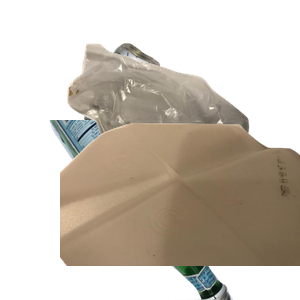glass: (37, 120, 262, 300)
metal: (81, 41, 234, 178)
plastic: (60, 120, 300, 300)
trash: (65, 41, 300, 221)
